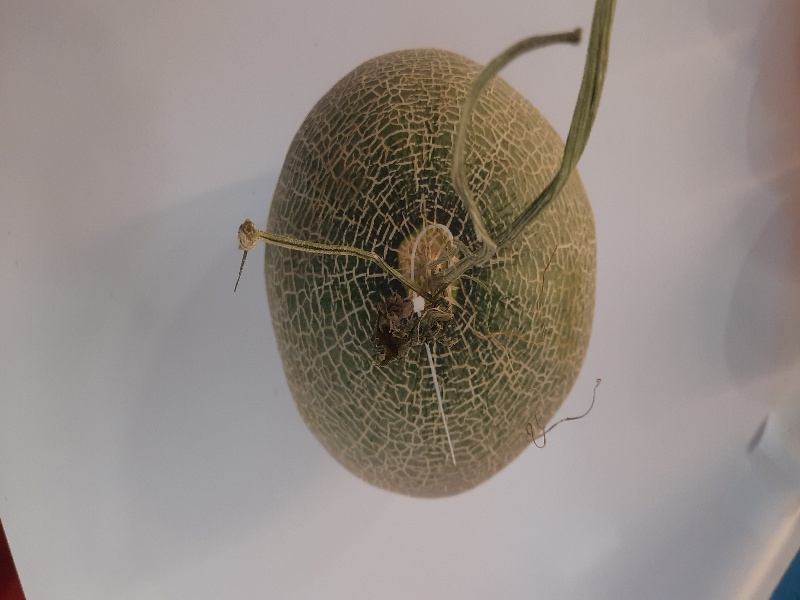fruit: (228, 27, 623, 511)
